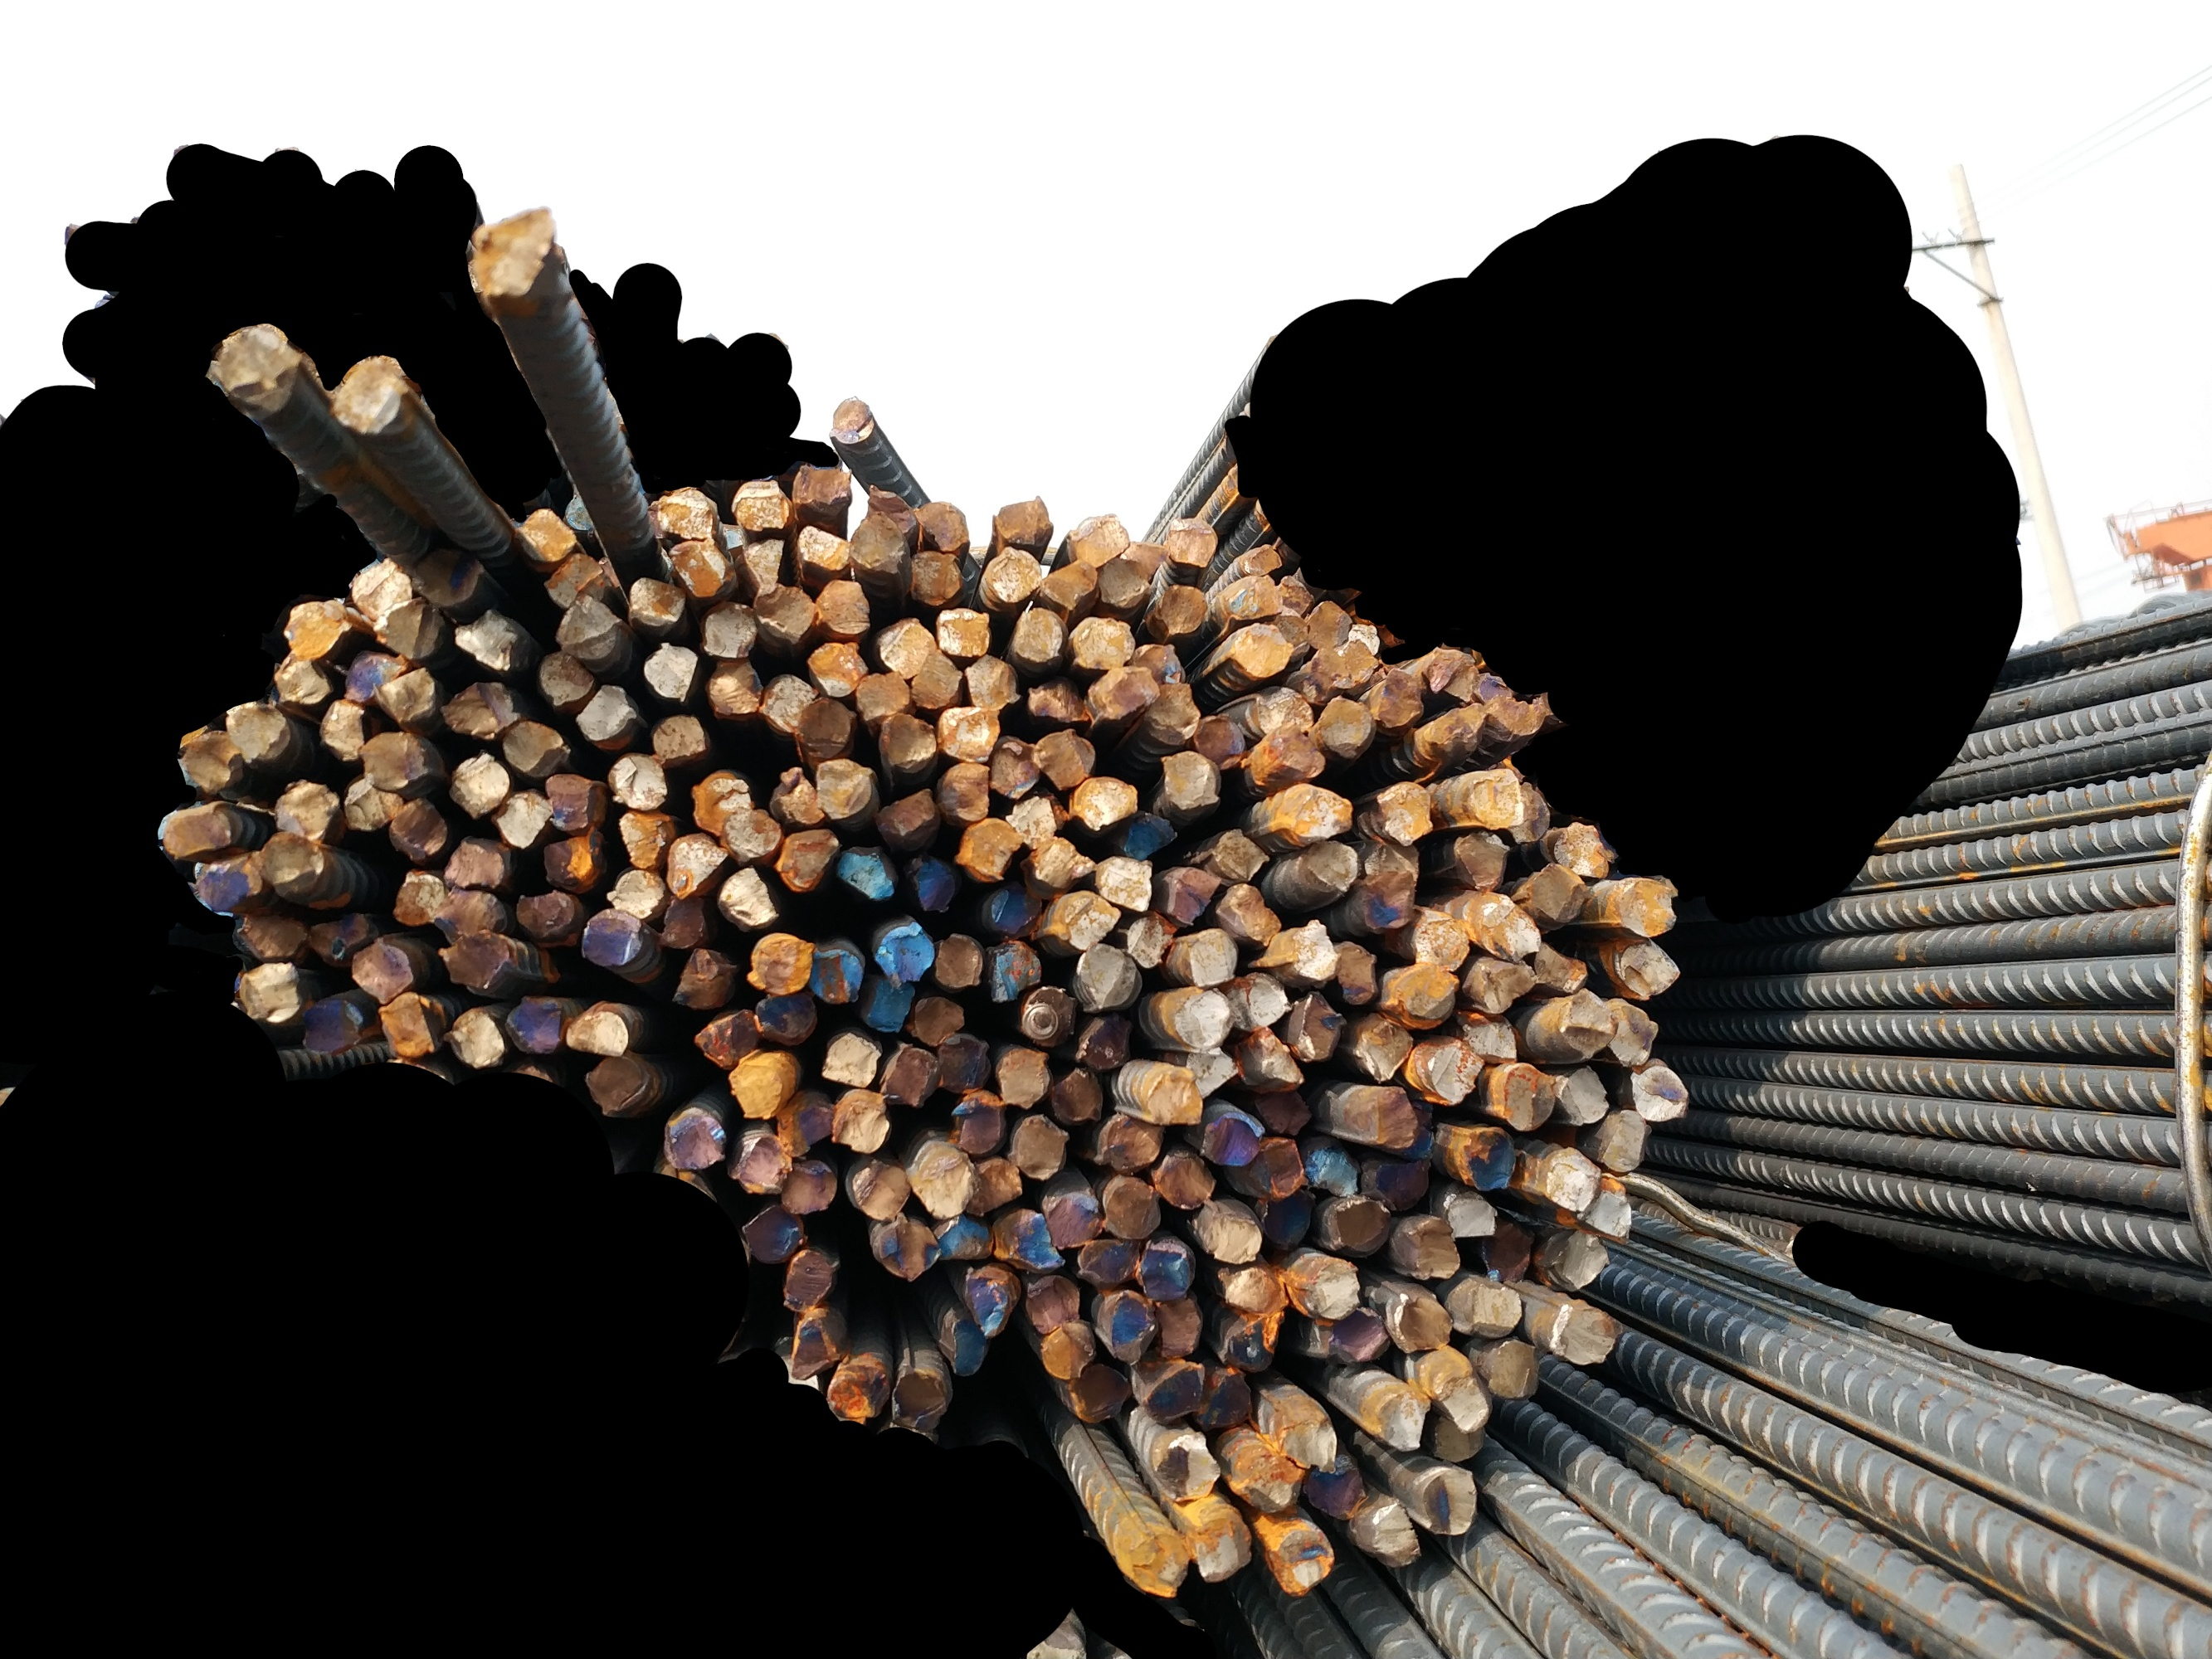rebar: (464, 204, 560, 307), (204, 319, 305, 413), (328, 350, 415, 444), (446, 601, 519, 676), (912, 1140, 978, 1222), (1543, 1302, 1623, 1368), (553, 591, 624, 664), (1123, 1521, 1191, 1598), (439, 676, 518, 742), (357, 727, 436, 793), (190, 843, 270, 908), (1288, 1249, 1360, 1321), (272, 775, 342, 847), (1489, 1060, 1560, 1129), (1384, 1288, 1457, 1356), (655, 1105, 730, 1171), (662, 829, 732, 899), (1354, 1500, 1424, 1570), (1408, 1467, 1478, 1537), (220, 699, 291, 767), (1049, 887, 1121, 955), (1265, 1527, 1333, 1598), (1093, 1288, 1157, 1363), (1386, 964, 1461, 1028), (1555, 985, 1618, 1061), (176, 727, 244, 796), (774, 824, 844, 892), (953, 814, 1021, 884), (1347, 1012, 1417, 1080), (1475, 892, 1543, 962), (281, 592, 352, 659), (232, 960, 303, 1026), (1196, 1201, 1267, 1267), (1145, 1148, 1217, 1215), (411, 544, 486, 606), (375, 988, 438, 1063), (828, 1089, 896, 1157), (1238, 1025, 1306, 1093), (580, 1047, 650, 1114), (746, 932, 816, 999), (1189, 1514, 1255, 1584), (1398, 1216, 1464, 1286), (1154, 1432, 1218, 1504), (1231, 1457, 1304, 1520), (1318, 1304, 1391, 1366), (1611, 936, 1684, 999), (439, 1006, 507, 1072), (877, 1216, 943, 1284), (1271, 1406, 1339, 1473), (352, 938, 417, 1007), (1217, 880, 1281, 950), (1372, 777, 1435, 849), (436, 931, 509, 992), (1093, 1114, 1166, 1175), (1279, 784, 1353, 845), (891, 1361, 950, 1436), (1138, 1361, 1204, 1427), (1353, 1084, 1419, 1150), (774, 1091, 838, 1159), (511, 502, 579, 566), (936, 701, 1004, 765), (1065, 1356, 1130, 1424), (1171, 986, 1236, 1054), (1424, 1037, 1487, 1107), (1462, 765, 1525, 835), (1079, 941, 1140, 1012), (1133, 1065, 1204, 1126), (385, 796, 450, 863), (260, 833, 326, 897), (446, 753, 511, 819), (851, 1157, 917, 1222), (377, 599, 444, 662), (690, 767, 753, 835), (654, 479, 723, 540), (162, 802, 234, 861), (1290, 992, 1347, 1065), (1255, 725, 1328, 782), (824, 1359, 889, 1424), (342, 770, 404, 836), (791, 692, 854, 758), (1368, 1385, 1431, 1452), (502, 714, 570, 775), (1140, 676, 1201, 744), (605, 751, 675, 810), (1218, 1314, 1288, 1373), (1611, 875, 1680, 934), (1211, 1263, 1290, 1316), (743, 1199, 805, 1263), (715, 864, 779, 927), (1159, 748, 1222, 812), (1177, 924, 1239, 988), (1455, 1129, 1520, 1192), (1523, 863, 1588, 925), (1196, 1364, 1257, 1431), (1100, 1176, 1161, 1243), (1330, 1194, 1391, 1260), (368, 666, 436, 725), (542, 551, 610, 610), (662, 537, 730, 596), (1011, 1114, 1070, 1182), (985, 732, 1042, 802), (1020, 979, 1077, 1049), (783, 1244, 838, 1316), (1363, 1157, 1435, 1213), (230, 911, 309, 962), (502, 993, 565, 1056), (694, 1006, 757, 1068), (873, 918, 936, 981), (612, 807, 675, 870), (837, 843, 899, 906), (812, 756, 875, 819), (1032, 725, 1095, 788), (349, 558, 410, 622), (732, 476, 797, 537), (1473, 1223, 1537, 1284), (298, 997, 364, 1056), (572, 681, 638, 741), (751, 580, 818, 640), (432, 885, 507, 938), (493, 782, 551, 850), (788, 1312, 845, 1380), (1070, 774, 1138, 831), (1253, 1134, 1311, 1202), (819, 1028, 882, 1089), (579, 908, 641, 969), (879, 782, 941, 843), (849, 514, 910, 577), (990, 932, 1042, 1006), (1002, 1213, 1063, 1276), (1551, 1230, 1612, 1293), (1539, 1150, 1602, 1211), (1626, 1063, 1689, 1124), (310, 695, 370, 760), (444, 836, 509, 896), (966, 1154, 1025, 1218), (933, 1028, 992, 1093), (697, 599, 762, 659), (805, 636, 870, 695), (879, 612, 938, 676), (1020, 1272, 1084, 1331), (1302, 1460, 1368, 1518), (1224, 971, 1290, 1028), (882, 1039, 938, 1107), (1089, 664, 1157, 720), (812, 575, 873, 636), (1231, 622, 1293, 681), (1259, 1192, 1318, 1255), (1572, 1183, 1635, 1243), (1551, 821, 1614, 880), (776, 1161, 840, 1218), (793, 462, 858, 519), (981, 549, 1046, 606), (1595, 1108, 1652, 1173), (539, 769, 594, 835), (1198, 1115, 1265, 1169), (1607, 999, 1659, 1068), (767, 762, 826, 823), (640, 641, 701, 701), (1121, 910, 1180, 971), (1161, 864, 1222, 924), (1464, 1279, 1525, 1338), (669, 946, 727, 1009), (1475, 960, 1537, 1018), (1412, 915, 1475, 972), (267, 650, 331, 706), (732, 1134, 788, 1199), (950, 1093, 1006, 1157), (729, 1054, 784, 1119), (1555, 1065, 1611, 1129), (1023, 674, 1089, 728), (567, 1007, 634, 1060), (309, 915, 378, 965), (966, 1265, 1016, 1335), (933, 601, 992, 660), (1008, 606, 1067, 666), (1041, 1188, 1100, 1248), (915, 495, 976, 552), (1044, 1066, 1105, 1124), (1072, 1014, 1133, 1072), (1361, 870, 1419, 931), (1424, 645, 1482, 706), (809, 943, 865, 1006), (995, 1046, 1051, 1108), (1483, 1337, 1539, 1399), (940, 758, 994, 823), (1030, 835, 1096, 887), (1154, 1295, 1204, 1363), (629, 570, 687, 629), (906, 652, 966, 709), (960, 653, 1020, 711), (1041, 556, 1100, 613), (1133, 1239, 1192, 1297), (1178, 1042, 1238, 1100), (1316, 695, 1374, 755), (540, 833, 601, 889), (1435, 1373, 1490, 1434), (605, 864, 668, 918), (1067, 514, 1130, 568), (1006, 795, 1070, 847), (1440, 1192, 1504, 1244), (1246, 688, 1318, 735), (1372, 671, 1422, 737), (1330, 938, 1379, 1006), (910, 990, 967, 1047), (539, 647, 596, 704), (1532, 938, 1590, 995), (1454, 831, 1511, 889), (390, 868, 446, 927), (760, 674, 816, 734), (1159, 514, 1218, 570), (1435, 701, 1490, 760), (751, 988, 812, 1042), (880, 709, 934, 770), (1075, 615, 1137, 669), (1093, 856, 1154, 910), (933, 931, 985, 993), (849, 669, 912, 721), (1222, 570, 1285, 622), (1297, 840, 1360, 892), (1489, 692, 1551, 744), (1288, 920, 1339, 985), (708, 659, 763, 716), (1306, 1141, 1361, 1199), (987, 884, 1046, 938), (1211, 829, 1271, 884), (722, 809, 783, 861), (648, 711, 711, 762), (906, 852, 955, 917), (1253, 1089, 1318, 1138), (335, 650, 394, 702), (1041, 1321, 1093, 1380), (1462, 1012, 1522, 1065), (826, 392, 877, 453), (518, 885, 579, 936), (931, 1216, 992, 1267), (863, 972, 913, 1033), (912, 545, 962, 606), (992, 495, 1053, 545), (863, 481, 917, 537), (1096, 554, 1150, 610), (1433, 1413, 1490, 1466), (1074, 1237, 1140, 1283), (1297, 596, 1351, 650), (1192, 711, 1246, 765), (655, 890, 708, 946), (1508, 781, 1551, 847), (1156, 582, 1208, 636), (797, 519, 852, 570), (945, 1316, 990, 1377), (1123, 812, 1177, 863), (1135, 640, 1187, 690), (744, 537, 790, 594), (1363, 838, 1421, 882), (1307, 648, 1349, 694), (560, 488, 600, 535), (1236, 544, 1285, 580), (1265, 603, 1307, 643), (1476, 669, 1518, 709), (1130, 535, 1171, 573), (1274, 575, 1313, 617), (1342, 640, 1379, 683), (1347, 617, 1381, 653)
